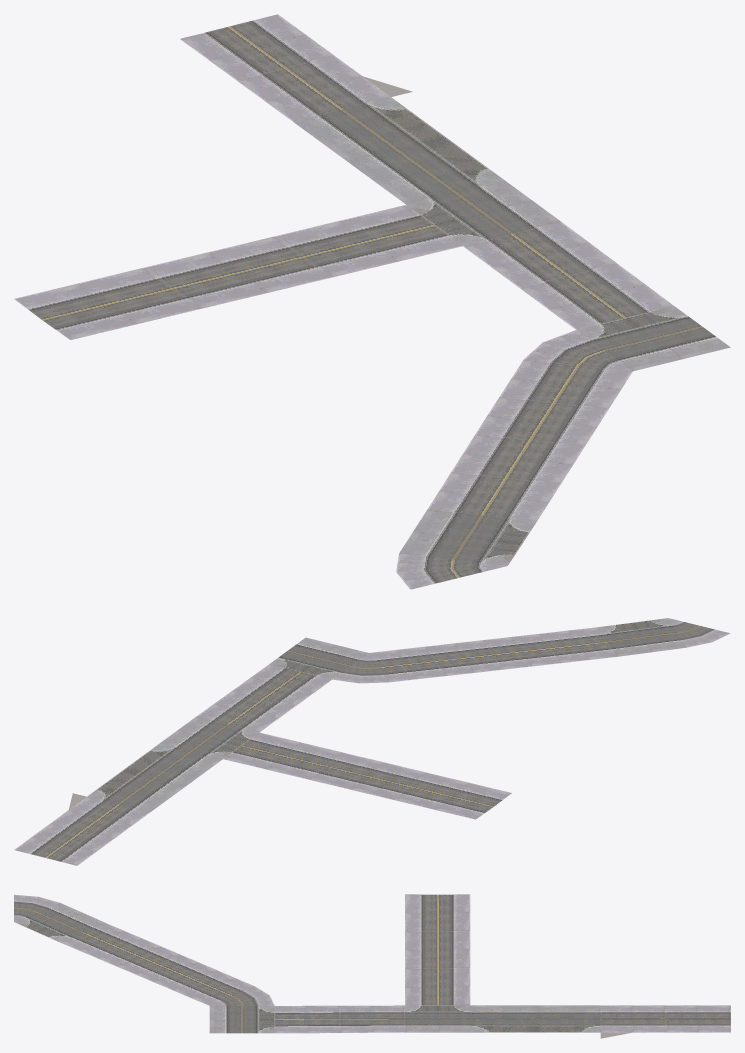
File: lodasnroad0162.obj
3 renders of one model, top to bottom at view 1: azimuth 30°, elevation 25°; view 2: azimuth 150°, elevation 25°; view 3: azimuth 270°, elevation 25°, orthographic. The views are drawn at different scales.
Parts seen in each view (by area): view 1: lodasNroad0162; view 2: lodasNroad0162; view 3: lodasNroad0162.
Part boxes in pixels (bbox=[...]): lodasNroad0162: bbox=[14, 14, 730, 589]; lodasNroad0162: bbox=[14, 618, 730, 865]; lodasNroad0162: bbox=[14, 894, 730, 1038].
Size of the model in its own units: 104 by 0.4998 by 220.
Materials: 4 (4 with a texture image).
